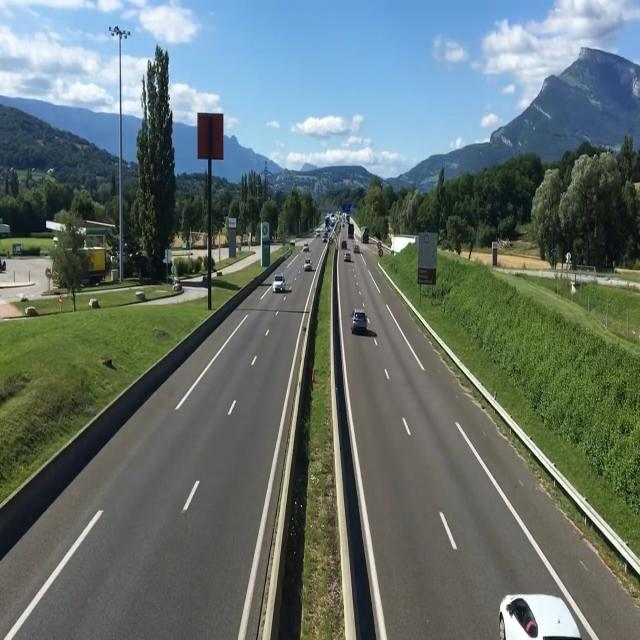car: (494, 585, 589, 640), (351, 305, 373, 340), (272, 273, 287, 295), (302, 256, 314, 274), (344, 249, 352, 268)
truck: (360, 226, 371, 245)
